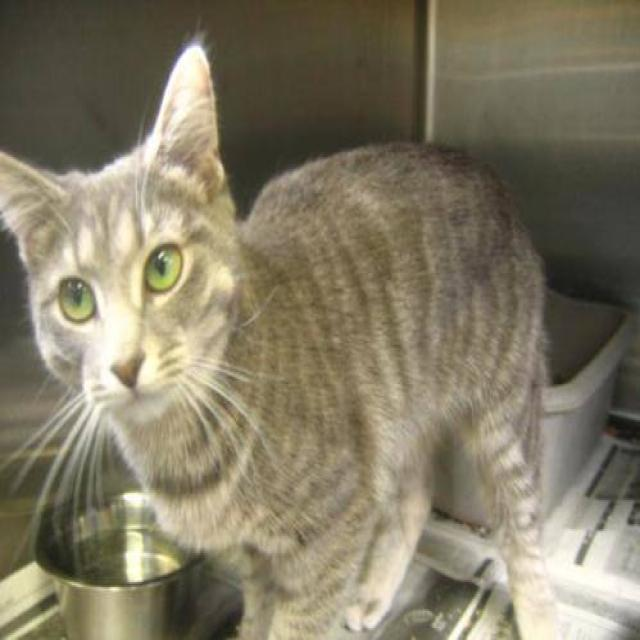cat: (0, 28, 564, 638)
